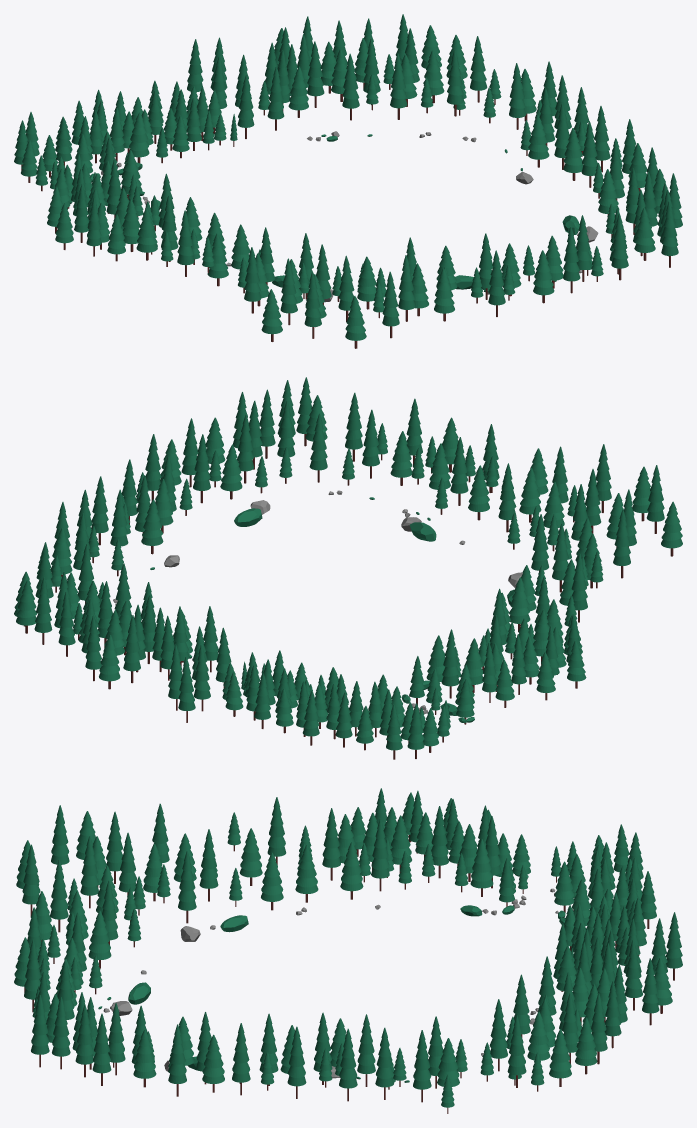
File: Objs Cenário NC.fbx
3 views of the same model, one above another, from view 1: azimuth 30°, elevation 25°; view 2: azimuth 150°, elevation 25°; view 3: azimuth 270°, elevation 25° (orthographic). The views are drawn at different scales.
Parts seen in each view (by area): view 1: Circle.064, Circle.075, Circle.017, Circle.018, Circle.080, Circle.031, Circle.050, Circle.051, Circle.054, Circle.015, Circle.173, Circle.014 (+43 smaller); view 2: Circle.078, Circle.068, Circle.070, Circle.031, Circle.030, Circle.035, Circle.008, Circle.015, Circle.074, Circle.014, Circle.027, Circle.080 (+36 smaller); view 3: Circle.012, Circle.083, Circle.060, Circle.062, Circle.076, Circle.020, Circle.059, Circle.077, Circle.023, Circle.069, Circle.044, Circle.056 (+58 smaller).
Part boxes in pixels (x1,y1,x2,y2): Circle.064: (345,296,366,348); Circle.075: (634,208,655,260); Circle.017: (382,271,399,338); Circle.018: (280,258,297,325); Circle.080: (528,114,549,167); Circle.031: (611,213,628,280); Circle.050: (470,36,487,102); Circle.051: (447,49,463,116); Circle.054: (307,41,324,107); Circle.015: (304,272,321,338); Circle.173: (136,208,157,260); Circle.014: (244,247,261,313); Circle.078: (220,444,242,499); Circle.068: (661,501,682,556); Circle.070: (468,465,489,520); Circle.031: (345,392,362,461); Circle.030: (309,413,327,482); Circle.035: (193,434,210,503); Circle.008: (441,629,459,698); Circle.015: (646,465,664,533); Circle.074: (390,431,412,485); Circle.014: (613,509,630,578); Circle.027: (450,437,468,505); Circle.080: (141,499,163,554); Circle.012: (371,818,389,891); Circle.083: (549,1029,571,1086); Circle.060: (239,828,262,885); Circle.062: (261,852,283,910); Circle.076: (133,1029,156,1087); Circle.020: (50,859,68,932); Circle.059: (340,842,363,899); Circle.077: (202,1034,224,1092); Circle.023: (178,851,196,923); Circle.069: (295,845,318,902); Circle.044: (357,1014,375,1086); Circle.056: (470,839,493,896).
Bounding box in the file's own units: 24125 × 4221 × 25427.
